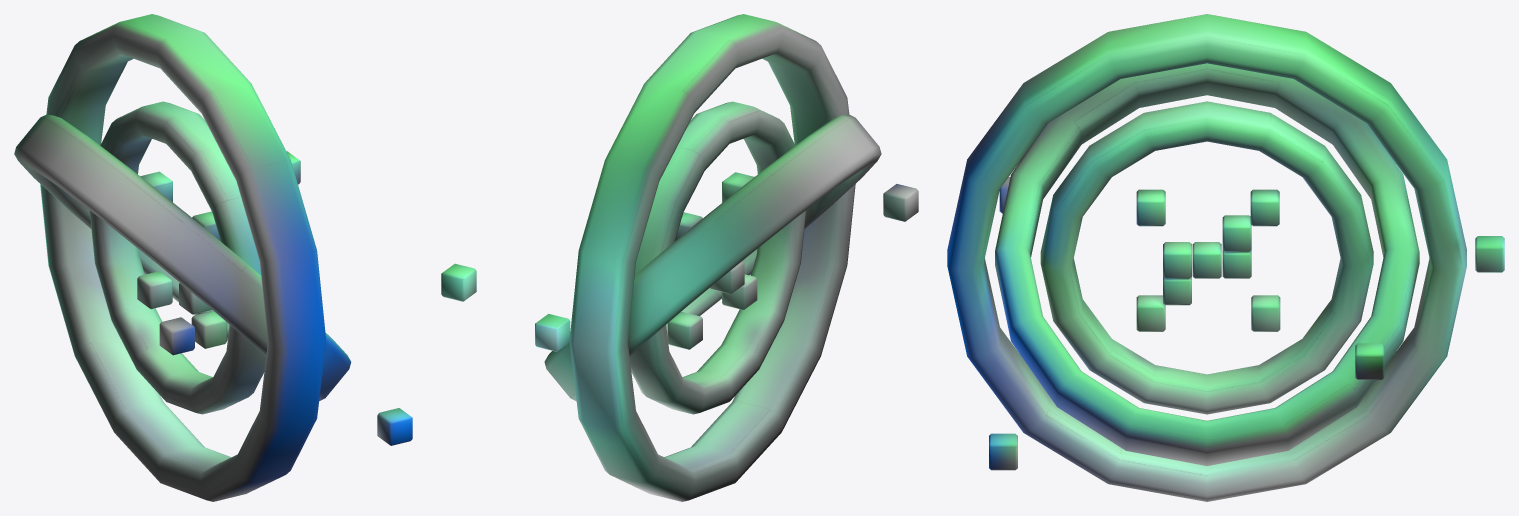
File: Main_StartButton_Model.glb
The picture shows the model from 3 angles, left to right: view 1: azimuth 30°, elevation 25°; view 2: azimuth 150°, elevation 25°; view 3: azimuth 270°, elevation 25°; orthographic projection. The views are drawn at different scales.
Visible parts, largest first — view 1: StartButton; view 2: StartButton; view 3: StartButton.
Boxes of the visible parts, box(x1,y1,x2,y2) form: StartButton: box(14, 14, 412, 501); StartButton: box(441, 14, 918, 501); StartButton: box(947, 14, 1504, 501).
Bounding box in the file's own units: 0.6229 × 0.8231 × 0.8827.
Materials: 1 (1 with a texture image).
